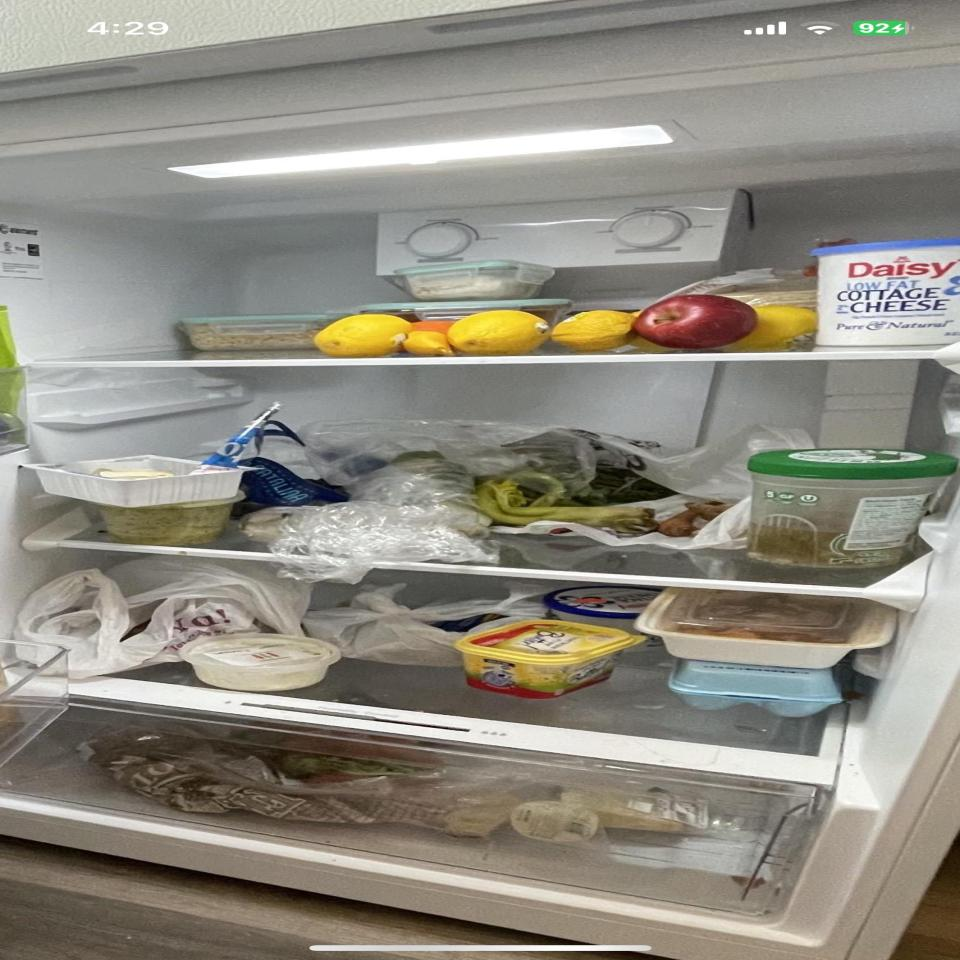Huevos: (668, 657, 842, 719)
Limón: (447, 311, 550, 354), (313, 314, 409, 358), (552, 310, 637, 351), (746, 306, 820, 346)
Manzana: (637, 295, 757, 349)
